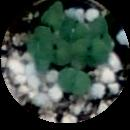Basil: (30, 4, 64, 36), (71, 40, 111, 63), (57, 67, 87, 95), (37, 48, 68, 72), (33, 39, 74, 56), (92, 15, 111, 46), (60, 20, 87, 41)
